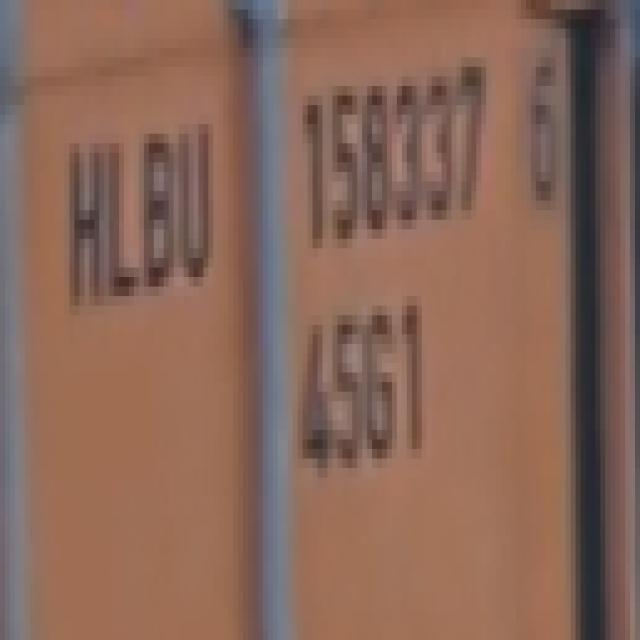dv: (514, 31, 570, 221)
owner: (49, 102, 219, 311)
serial: (287, 33, 493, 257)
size: (289, 286, 442, 482)
